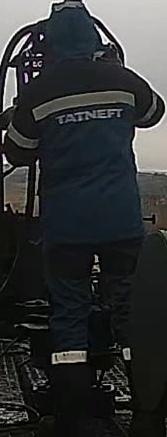vest: (18, 60, 142, 251)
